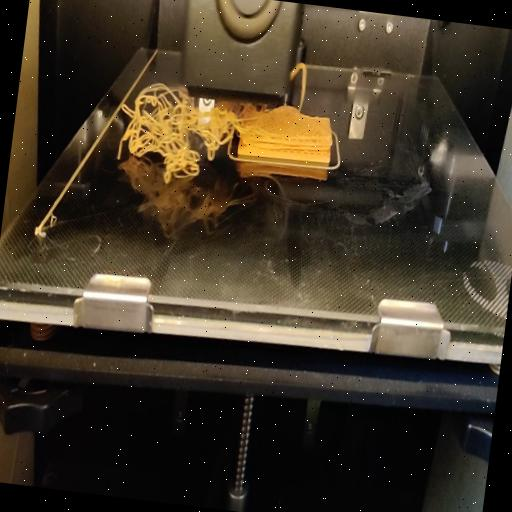spaghetti: (111, 79, 193, 181), (181, 96, 234, 186)
